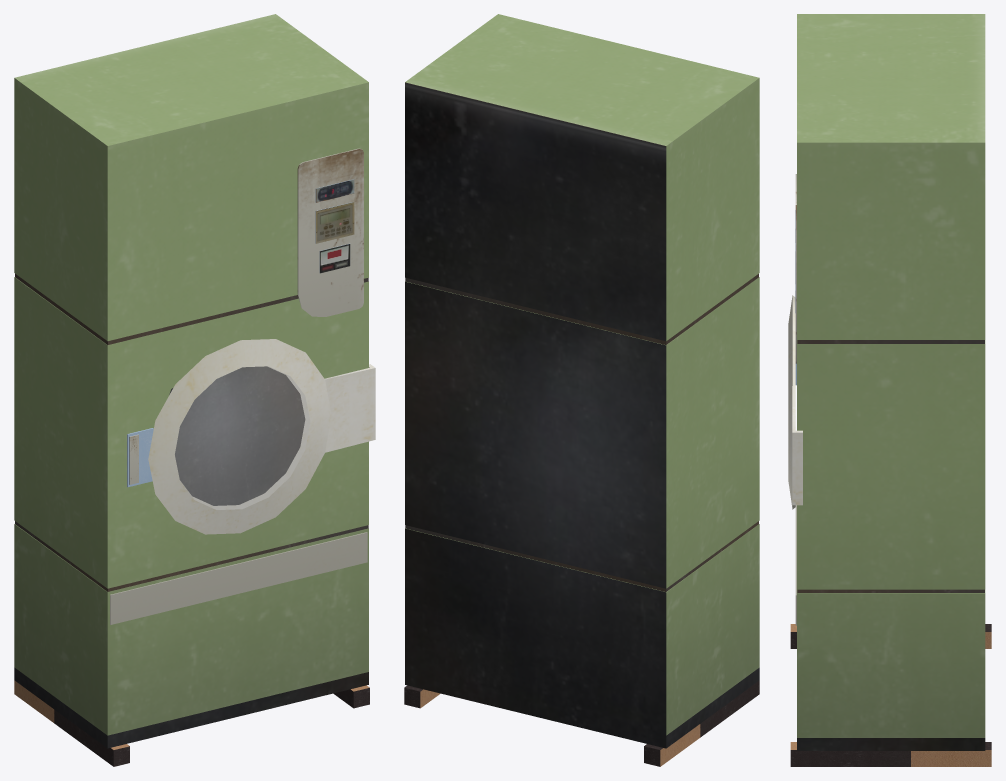
File: prop_washer02.fbx
The picture shows the model from 3 angles, left to right: view 1: azimuth 30°, elevation 25°; view 2: azimuth 150°, elevation 25°; view 3: azimuth 270°, elevation 25°; orthographic projection.
Visible parts, largest first — view 1: prop_washer02; view 2: prop_washer02; view 3: prop_washer02.
Part boxes in pixels (x1,y1,x2,y2): prop_washer02: (14, 14, 375, 766); prop_washer02: (404, 14, 759, 766); prop_washer02: (788, 14, 991, 766).
Size of the model in its own units: 0.8461 by 1.88 by 0.5546.
